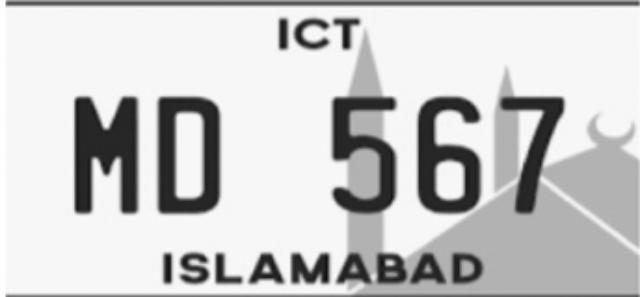Number: (59, 85, 574, 228)
